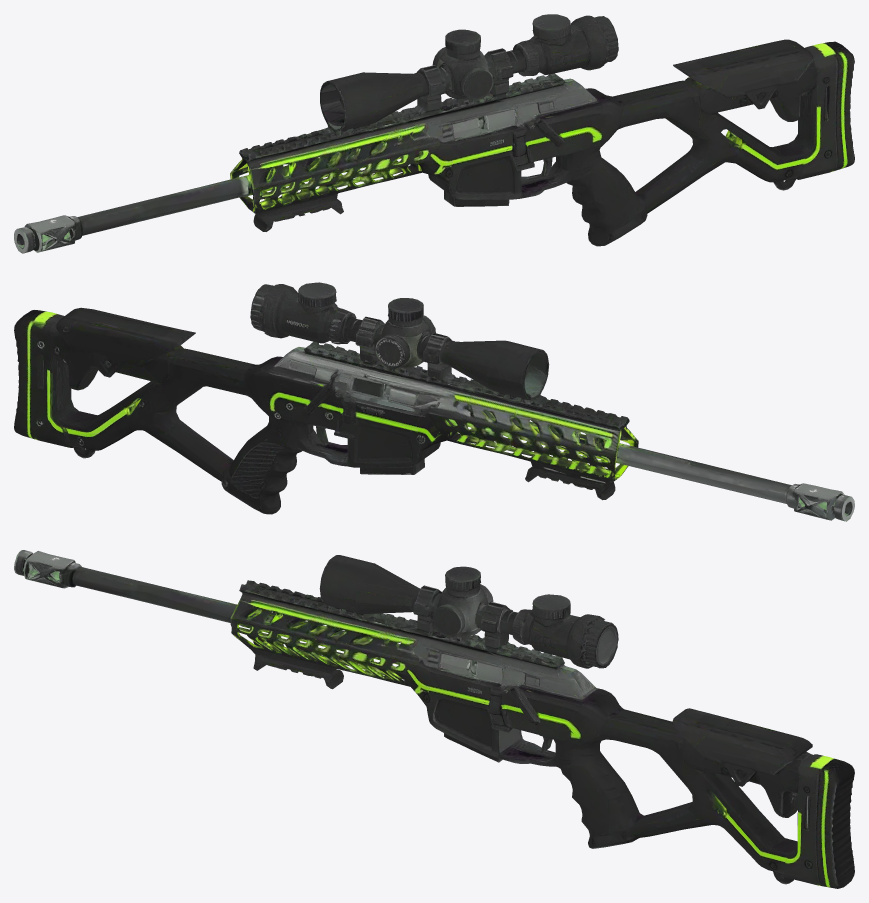
The model's file is gun_dmr.glb.
3 renders of one model, top to bottom at view 1: azimuth 30°, elevation 25°; view 2: azimuth 150°, elevation 25°; view 3: azimuth 330°, elevation 25°, orthographic.
Parts seen in each view (by area): view 1: Mesh_0; view 2: Mesh_0; view 3: Mesh_0.
Boxes of the visible parts, <box> form: Mesh_0: <box>14,14,854,253</box>; Mesh_0: <box>14,282,854,521</box>; Mesh_0: <box>14,550,854,888</box>.
Bounding box in the file's own units: 1.9 × 0.5265 × 0.1273.
1 material, 1 textured.
